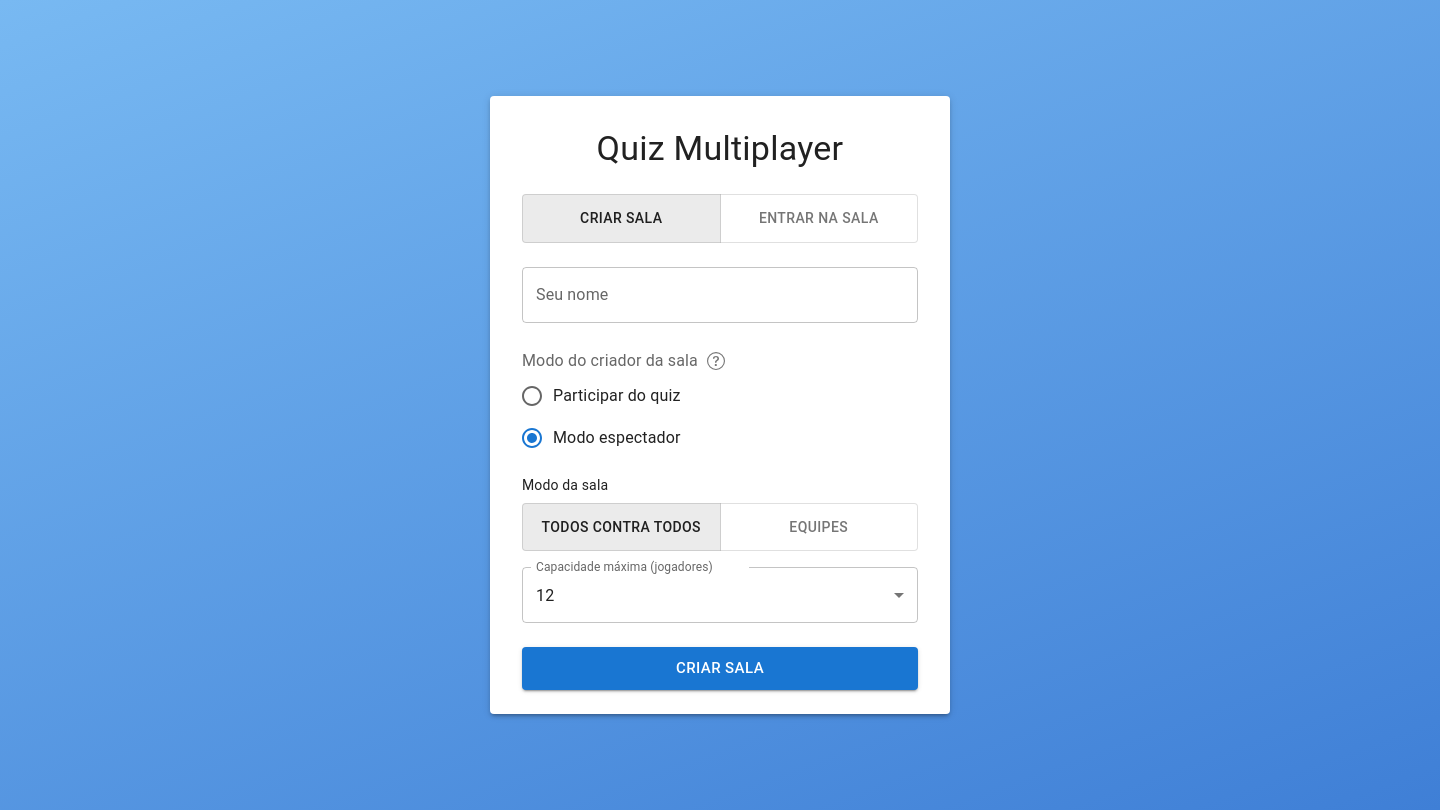
Test: Multiplayer › alternar para 'Entrar na Sala' mostra o campo de código e esconde o modo do criador
The image size is (1440, 810).
Click the button "Entrar na Sala": x=819, y=219 [720,194,918,243]
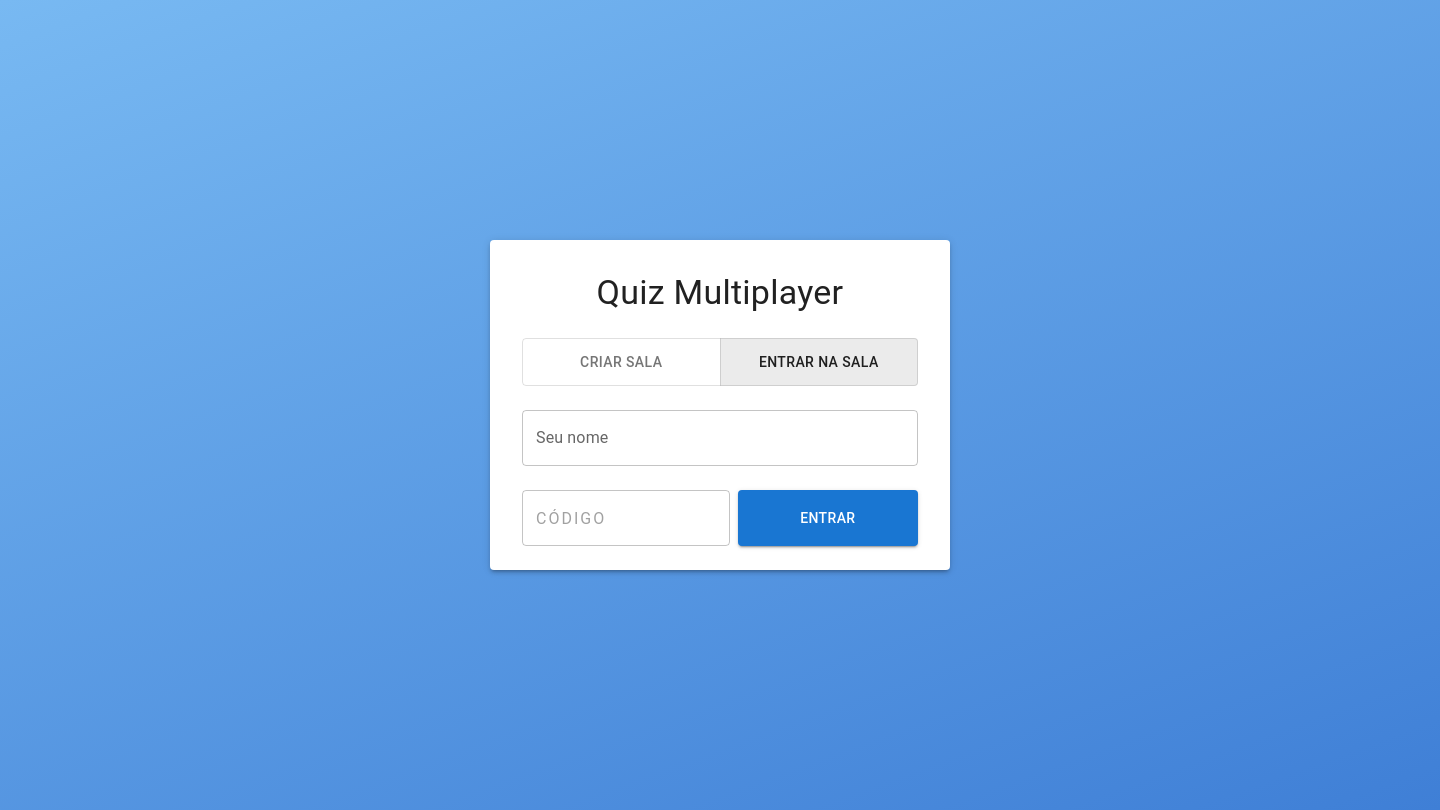
Expected: the field with placeholder "Código" is shown, [522,490,730,546]
Expected: the text "Modo do criador da sala" is gone
